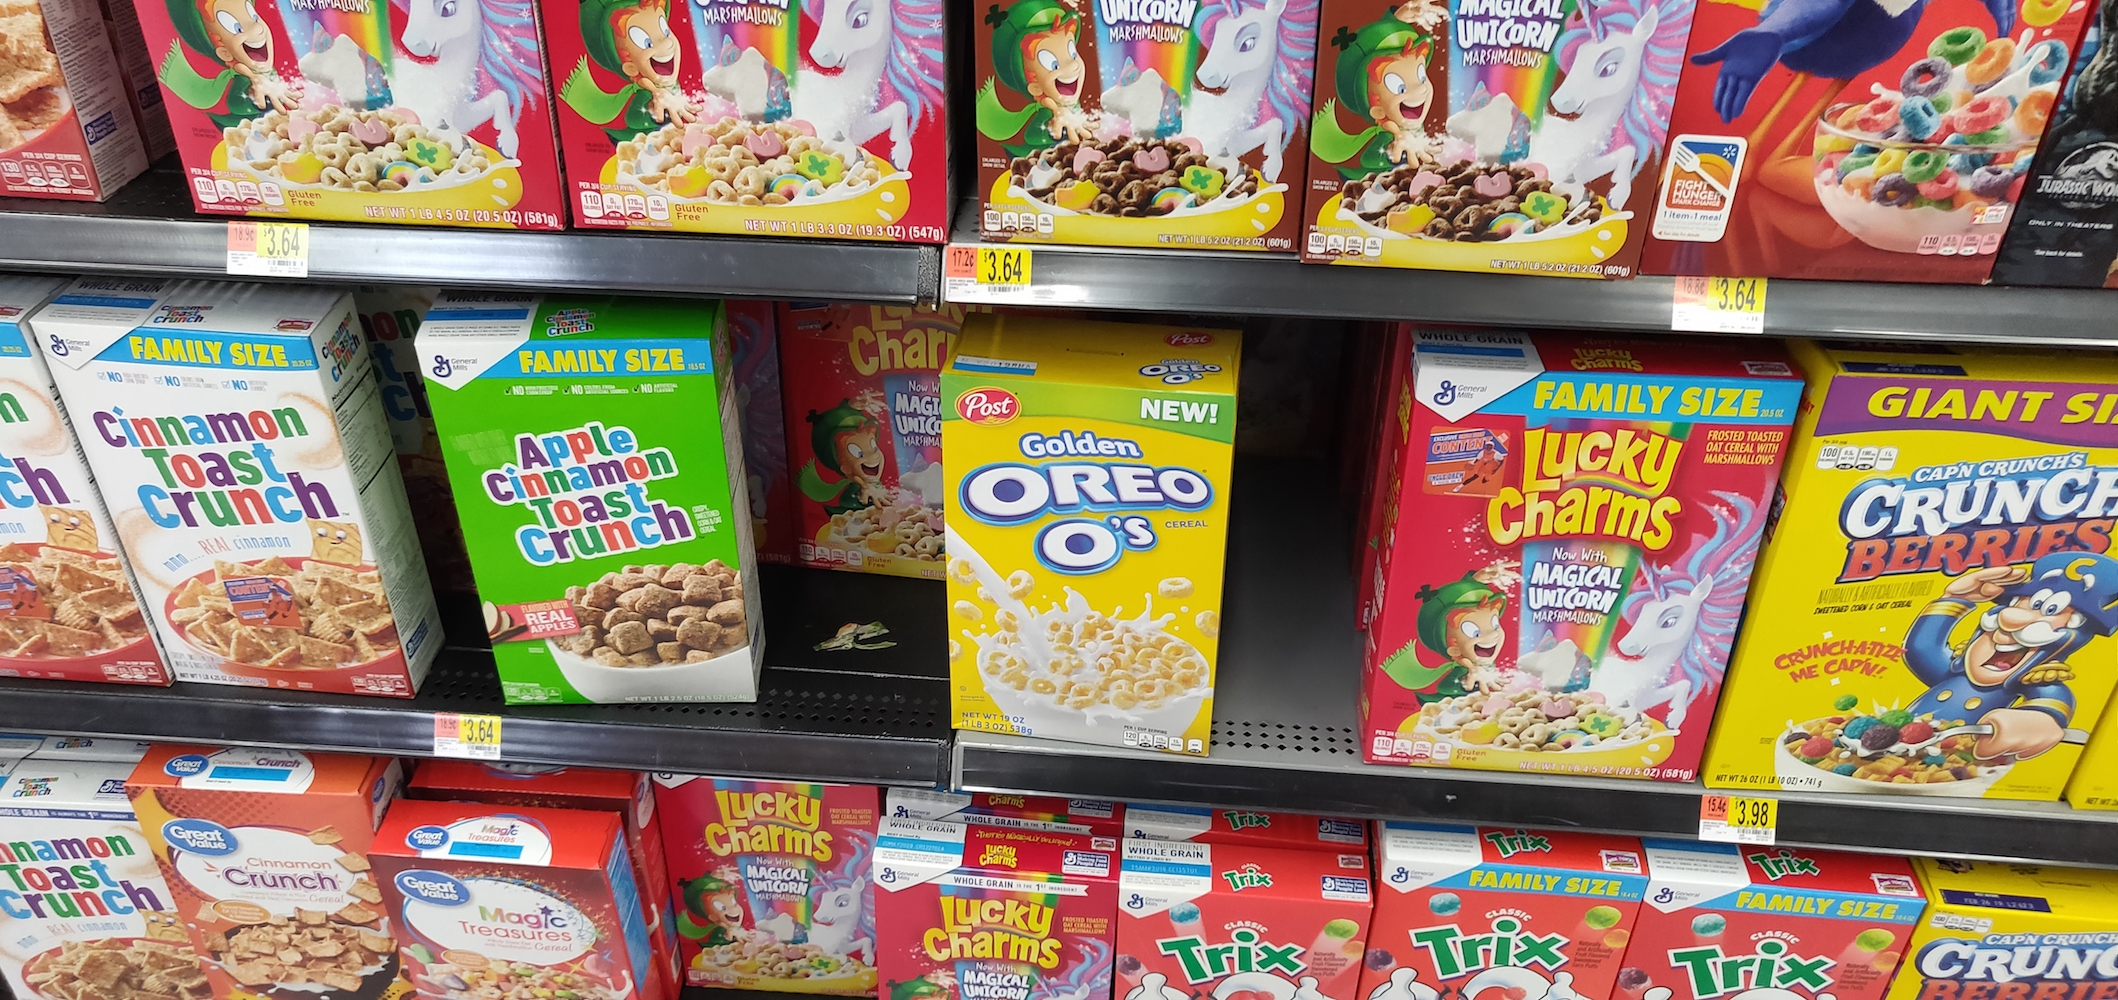Oreo Golden-568301011: (937, 378, 1216, 750)
